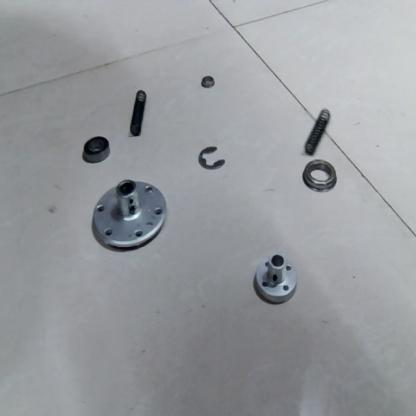FOD: (89, 177, 169, 254), (252, 254, 299, 307), (305, 104, 333, 159), (300, 160, 339, 192), (80, 135, 113, 169), (128, 87, 148, 143), (197, 144, 227, 171), (200, 73, 216, 94)
